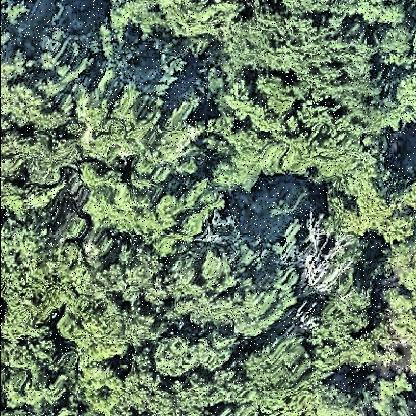tree-top: (234, 5, 379, 121), (72, 86, 204, 184), (238, 106, 373, 180), (2, 64, 79, 186), (239, 328, 320, 416), (83, 184, 184, 246), (1, 341, 77, 416), (327, 168, 394, 245), (104, 1, 238, 38), (318, 277, 370, 349), (150, 334, 200, 385)
